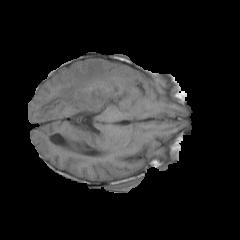glioma: (39, 60, 134, 152)
